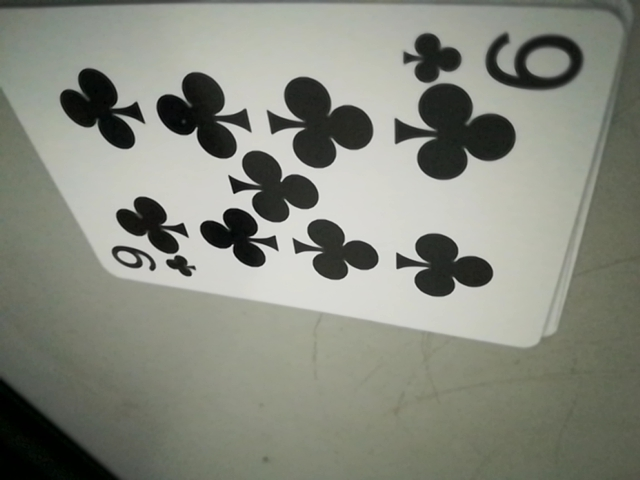mh 9: (404, 21, 587, 89), (106, 245, 201, 284)
